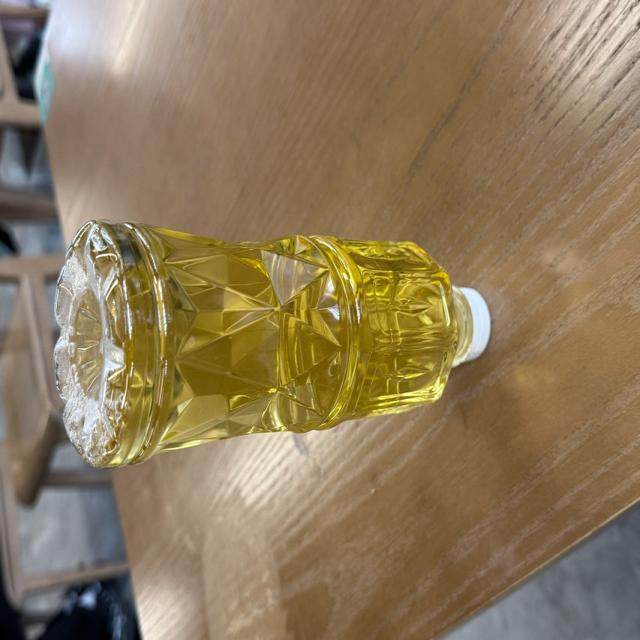high: (53, 221, 489, 467)
